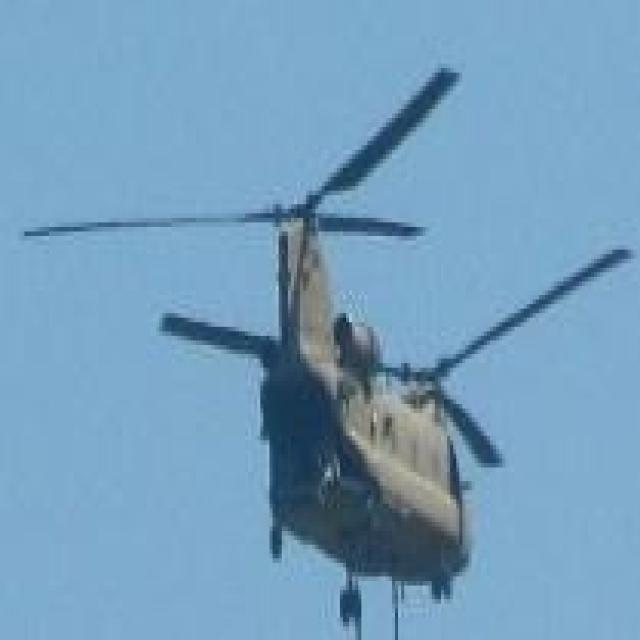Helicopter: (220, 134, 481, 610)
